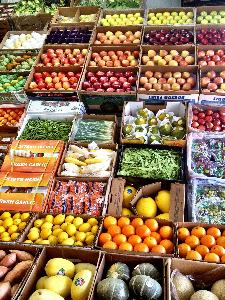apple: (137, 67, 199, 91), (78, 67, 136, 91), (142, 45, 198, 64), (90, 45, 142, 65), (34, 68, 76, 92), (145, 28, 195, 46), (93, 27, 145, 44), (191, 103, 225, 129), (98, 9, 146, 25), (148, 9, 197, 24), (40, 50, 89, 64), (199, 67, 224, 91), (197, 7, 225, 25), (196, 28, 224, 46), (199, 45, 225, 64), (55, 8, 78, 20), (80, 7, 98, 21)
apricot: (1, 103, 26, 127)
carrot: (46, 179, 112, 215)
grape: (193, 182, 225, 224)
guava: (1, 30, 44, 50)
lemon: (25, 214, 103, 246), (0, 212, 32, 244)
mango: (122, 103, 186, 142)
melon: (28, 252, 100, 300), (97, 258, 165, 300), (112, 180, 179, 218), (170, 260, 224, 300)
orange: (102, 216, 176, 255), (178, 226, 224, 264)
pear: (0, 54, 36, 72), (0, 72, 28, 92)
